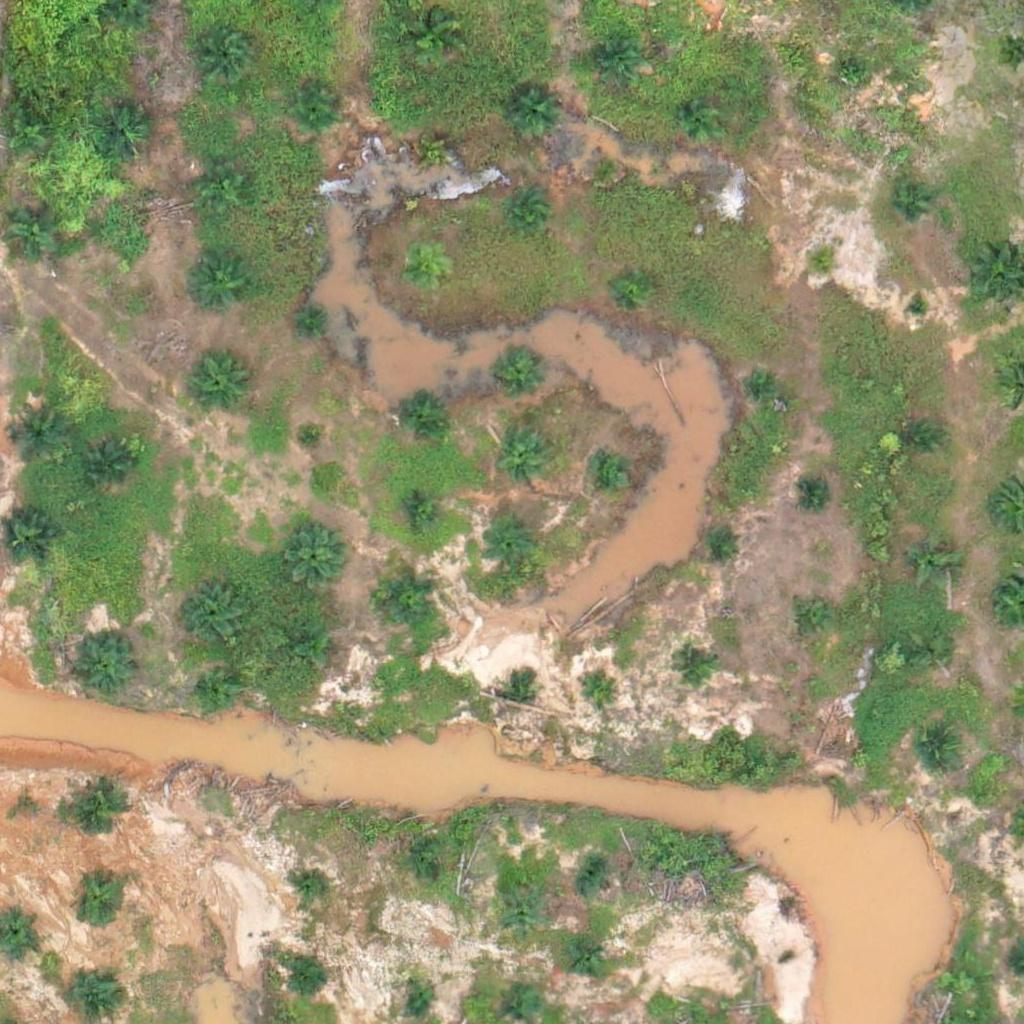Kelapa_Sawit: (183, 240, 258, 316), (196, 22, 259, 85), (91, 101, 154, 164), (76, 633, 138, 696), (188, 352, 251, 414), (280, 519, 343, 581), (186, 578, 248, 641), (2, 201, 64, 263), (381, 570, 443, 632), (71, 877, 121, 928), (71, 783, 121, 834), (407, 11, 457, 62), (504, 91, 554, 142), (399, 248, 449, 299), (494, 349, 544, 400), (909, 535, 959, 586), (412, 120, 462, 171), (74, 973, 124, 1023), (84, 433, 134, 483), (12, 413, 62, 463), (199, 171, 249, 221), (392, 388, 442, 438), (499, 433, 549, 483), (485, 519, 535, 569), (588, 36, 638, 86), (192, 662, 242, 712), (280, 625, 330, 675), (899, 420, 937, 458), (293, 301, 331, 339), (682, 99, 720, 137), (834, 55, 872, 93), (802, 245, 840, 283), (404, 490, 442, 528), (293, 865, 331, 903), (405, 979, 443, 1017), (573, 934, 611, 972), (572, 859, 610, 897), (297, 88, 335, 125), (592, 457, 629, 495), (799, 475, 837, 512), (675, 650, 712, 688), (916, 633, 954, 670), (105, 222, 142, 260), (886, 184, 923, 222), (583, 145, 620, 183), (294, 415, 331, 453), (579, 674, 616, 712), (283, 960, 321, 997), (416, 859, 453, 897), (501, 896, 538, 934), (509, 195, 546, 232), (917, 731, 954, 768), (697, 523, 734, 560), (794, 601, 831, 638), (614, 268, 651, 305), (745, 366, 782, 403), (502, 680, 527, 706), (905, 294, 930, 319)
